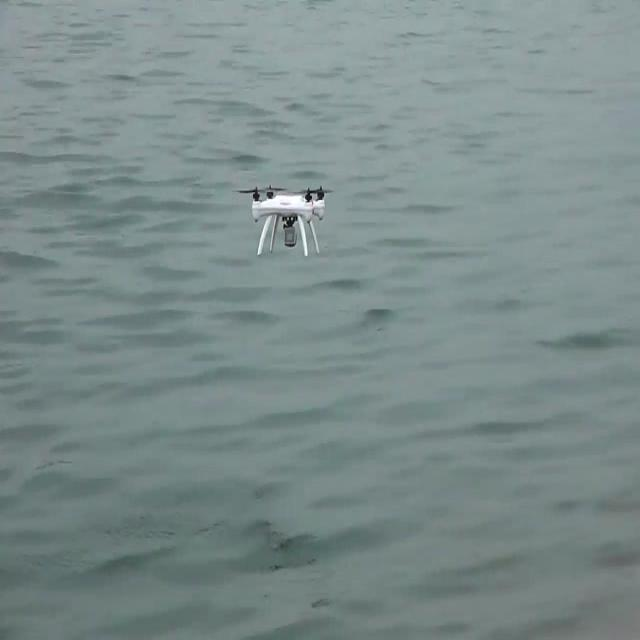drone: (241, 183, 335, 259)
